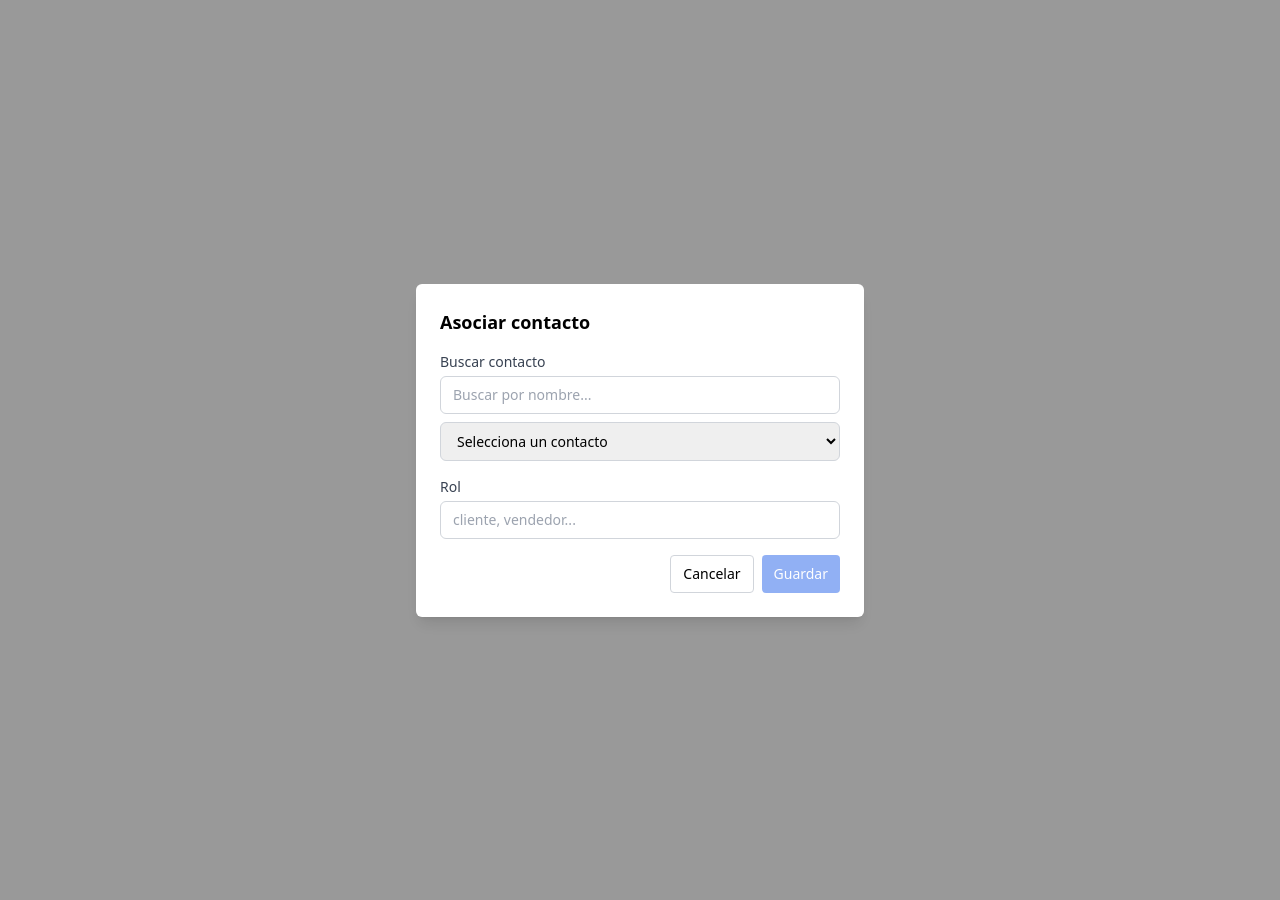
it: AsociarContactoModal › shows inline 409 error when contacto already linked
Select "Ana Lopez" in the dropdown at (640, 441), box [440,422,840,460]
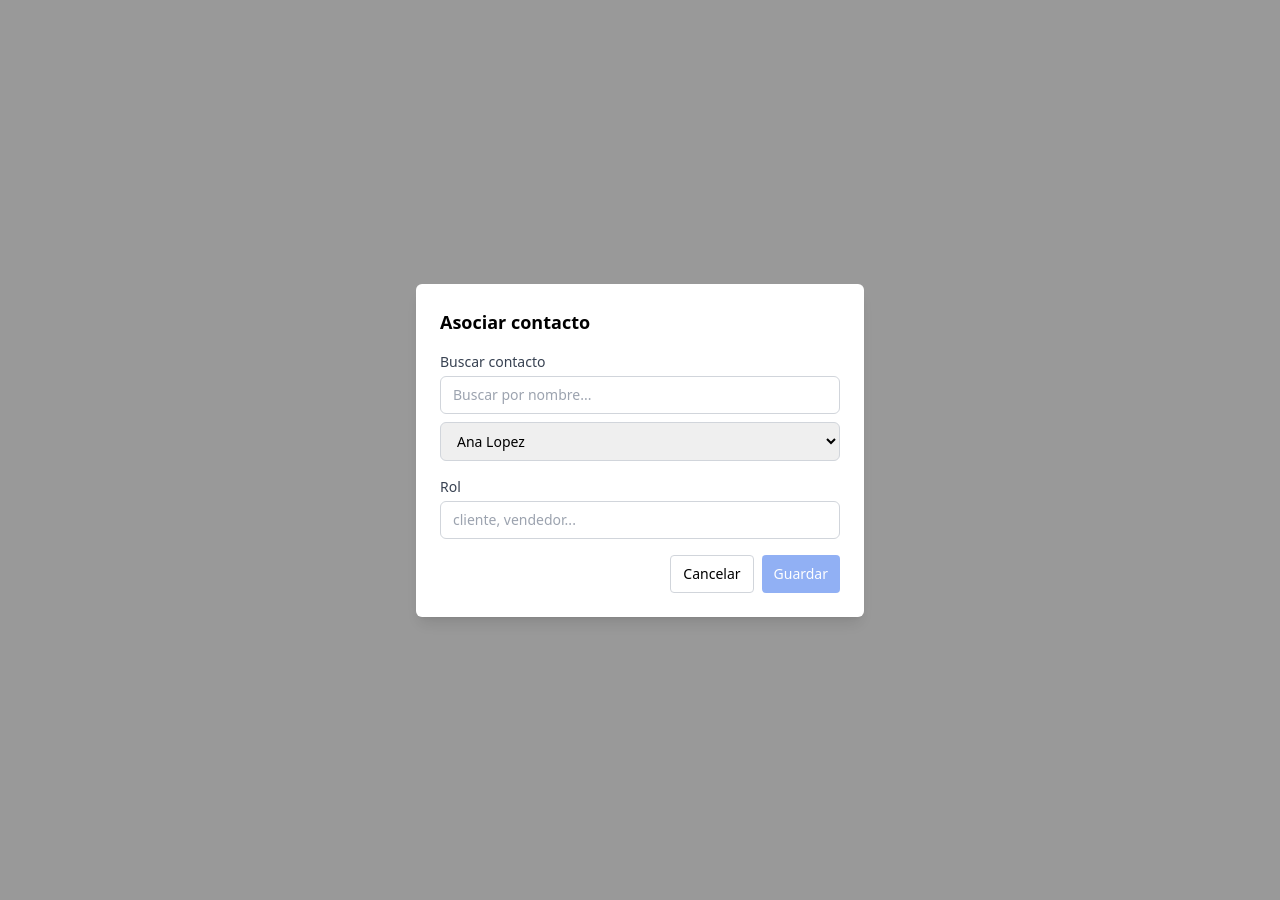
Type "cliente" into the field with placeholder "cliente, vendedor..." at (640, 520), box [440,500,840,538]
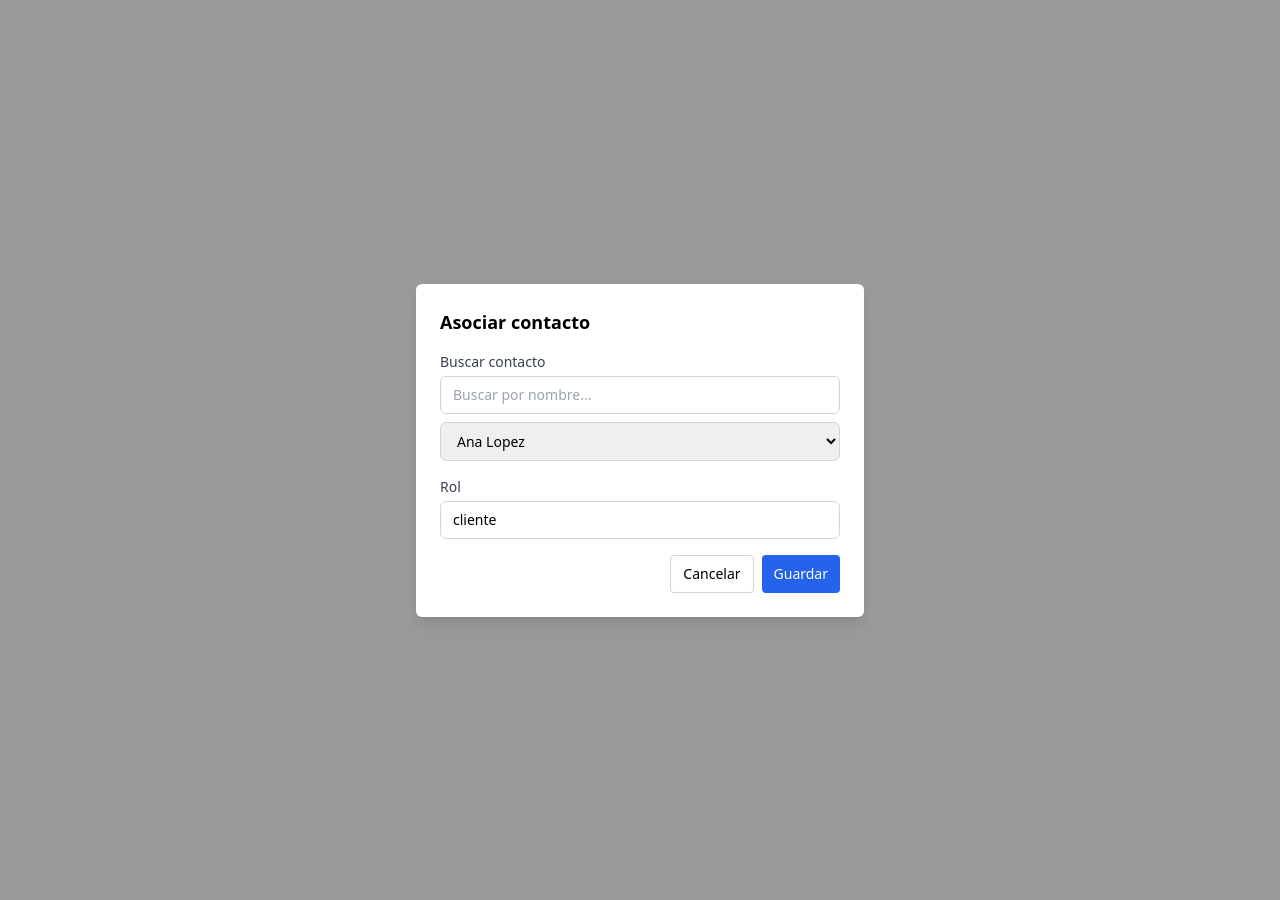
Click the button "Guardar" at (801, 574), box [762,554,840,592]
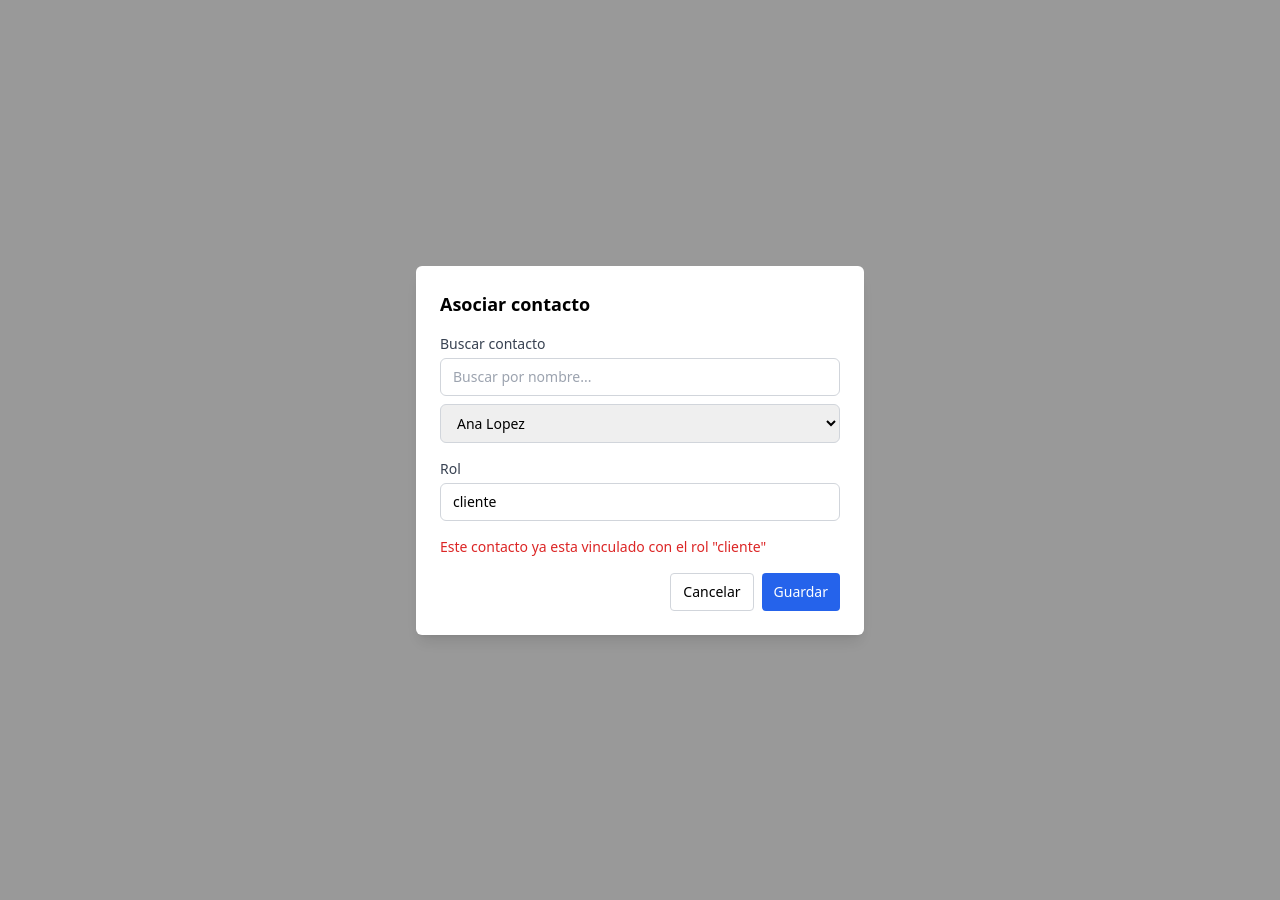
Expected: the message shows "ya esta vinculado", [440,536,766,556]
